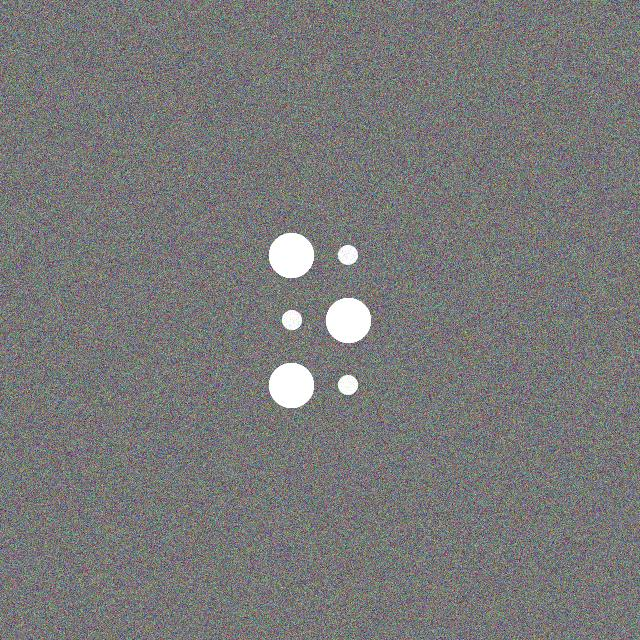O: (265, 228, 373, 414)
